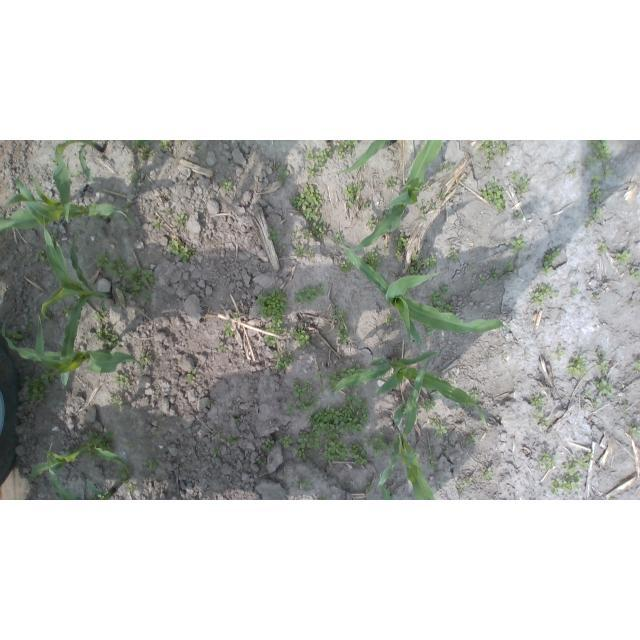Maize: (337, 222, 508, 351), (15, 176, 114, 393), (333, 349, 487, 431), (343, 140, 446, 252), (0, 314, 146, 378), (376, 362, 436, 500), (0, 174, 136, 231), (30, 436, 131, 480), (53, 140, 104, 224), (48, 466, 125, 500), (336, 140, 396, 174), (379, 482, 393, 500)
Weeds: (92, 249, 159, 308), (309, 391, 371, 438), (256, 286, 289, 324), (21, 369, 56, 402), (5, 318, 36, 349), (306, 147, 333, 181), (289, 183, 324, 209), (293, 430, 322, 461), (480, 179, 506, 213), (292, 379, 318, 411), (165, 239, 196, 265), (323, 438, 351, 466), (300, 210, 327, 239), (364, 432, 393, 457), (331, 308, 351, 344), (539, 246, 561, 277), (552, 472, 580, 496), (294, 283, 324, 305), (409, 253, 437, 276), (91, 325, 119, 348), (562, 454, 593, 473), (263, 324, 287, 348), (530, 284, 557, 305), (289, 324, 311, 348), (589, 140, 612, 162), (344, 182, 361, 210), (568, 355, 589, 377), (335, 141, 359, 160), (352, 440, 369, 466), (273, 350, 294, 371), (363, 250, 381, 273), (92, 298, 109, 322), (477, 140, 496, 160), (511, 173, 529, 194), (431, 415, 448, 436), (132, 141, 153, 158), (595, 379, 614, 397), (113, 372, 132, 389), (428, 290, 444, 310), (392, 233, 409, 251), (528, 392, 546, 408), (539, 452, 556, 468), (436, 301, 454, 316), (325, 373, 340, 390), (511, 235, 525, 253), (275, 162, 289, 180), (615, 249, 631, 264), (420, 398, 436, 413), (267, 227, 281, 243), (82, 447, 97, 461), (583, 155, 597, 170), (588, 188, 602, 203), (339, 259, 354, 273), (596, 360, 609, 376), (496, 140, 509, 156), (262, 438, 275, 454), (296, 246, 313, 258), (223, 320, 234, 338), (109, 395, 123, 409), (385, 312, 398, 327), (339, 366, 355, 378), (280, 435, 293, 449), (301, 478, 313, 493), (138, 353, 153, 365), (603, 164, 613, 181), (364, 215, 376, 229), (186, 368, 198, 382), (174, 212, 188, 224), (503, 261, 514, 276), (222, 178, 233, 193), (467, 390, 479, 403), (591, 172, 603, 185), (439, 283, 451, 295), (148, 459, 160, 471), (98, 442, 112, 452), (632, 423, 640, 440), (597, 240, 608, 252), (534, 409, 545, 421), (35, 250, 46, 262), (332, 234, 344, 245), (630, 268, 640, 281), (482, 467, 492, 480), (61, 305, 71, 318), (423, 324, 433, 337), (211, 446, 221, 459), (128, 170, 141, 180), (288, 404, 297, 418), (556, 350, 567, 361), (218, 341, 229, 352), (464, 435, 476, 445), (416, 203, 425, 216), (159, 141, 172, 150), (448, 251, 459, 261), (584, 217, 595, 227), (592, 206, 601, 218), (152, 220, 164, 229), (46, 312, 55, 324), (632, 360, 640, 373), (226, 435, 236, 445), (387, 179, 397, 189), (428, 457, 436, 469), (233, 411, 241, 423), (620, 403, 629, 413), (477, 276, 486, 285), (205, 399, 214, 408), (213, 428, 222, 437), (257, 458, 266, 467), (591, 400, 601, 408), (151, 430, 161, 438), (107, 431, 117, 439), (513, 211, 523, 219), (394, 251, 402, 261), (93, 428, 100, 439), (446, 163, 454, 172), (435, 164, 443, 173), (541, 421, 551, 428), (128, 483, 135, 493), (51, 227, 58, 237), (582, 391, 593, 397), (482, 162, 490, 170), (569, 169, 576, 178), (570, 289, 579, 296), (491, 273, 498, 282), (439, 192, 446, 200), (467, 476, 474, 484), (431, 203, 438, 211), (50, 157, 57, 165), (279, 244, 286, 252), (355, 363, 361, 372), (319, 372, 324, 382), (436, 390, 443, 397), (426, 180, 433, 187), (165, 209, 172, 216), (362, 203, 370, 209), (435, 483, 443, 489), (72, 172, 81, 177), (127, 439, 133, 446), (457, 483, 464, 489), (98, 494, 105, 500), (467, 263, 473, 270), (75, 236, 80, 244), (436, 375, 442, 381), (465, 404, 472, 409), (593, 295, 600, 300), (123, 204, 130, 209), (176, 140, 184, 144), (456, 402, 461, 408), (196, 141, 201, 147), (233, 314, 239, 319), (321, 496, 328, 500), (600, 350, 605, 355), (320, 387, 325, 392), (366, 483, 370, 489), (582, 405, 587, 409), (449, 375, 453, 380), (191, 497, 197, 500)
